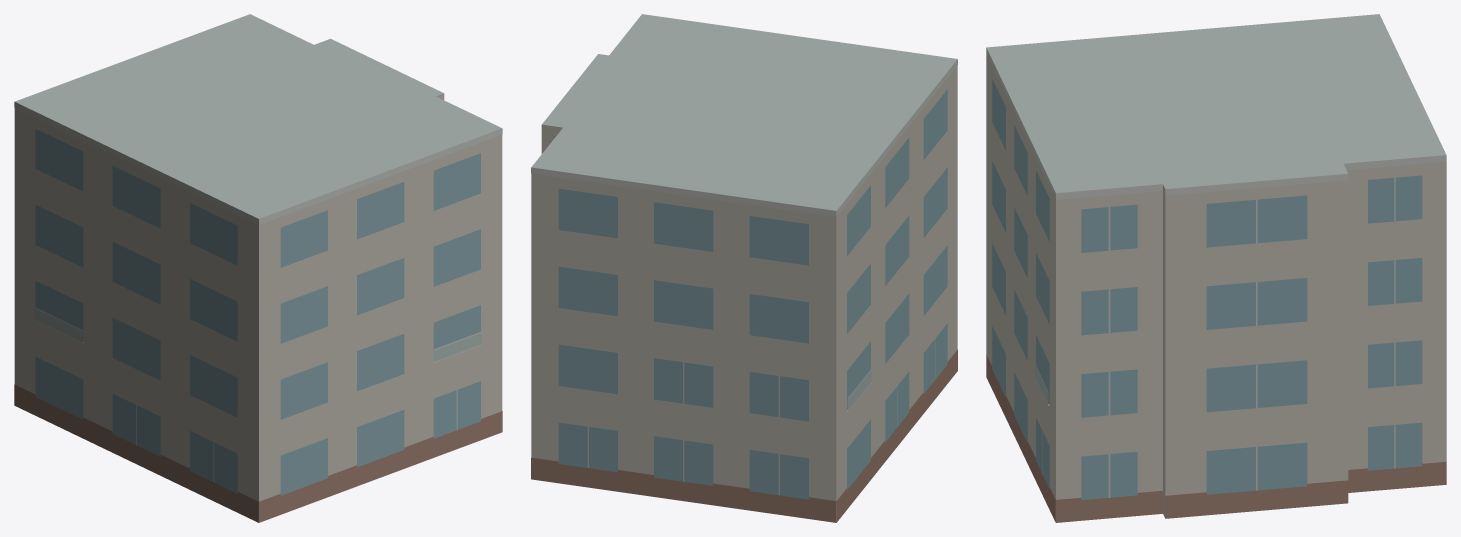
The model's file is survey-upis-32696795.glb.
3 views of the same model, side by side, from view 1: azimuth 30°, elevation 25°; view 2: azimuth 150°, elevation 25°; view 3: azimuth 270°, elevation 25° (orthographic). The views are drawn at different scales.
Visible parts, largest first — view 1: survey-upis-32696795.tmp; view 2: survey-upis-32696795.tmp; view 3: survey-upis-32696795.tmp.
Boxes of the visible parts, x1,y1,x2,y2 form: survey-upis-32696795.tmp: (14,14,502,522); survey-upis-32696795.tmp: (531,14,957,522); survey-upis-32696795.tmp: (986,14,1446,522).
Size of the model in its own units: 14.24 by 12.2 by 15.45.
